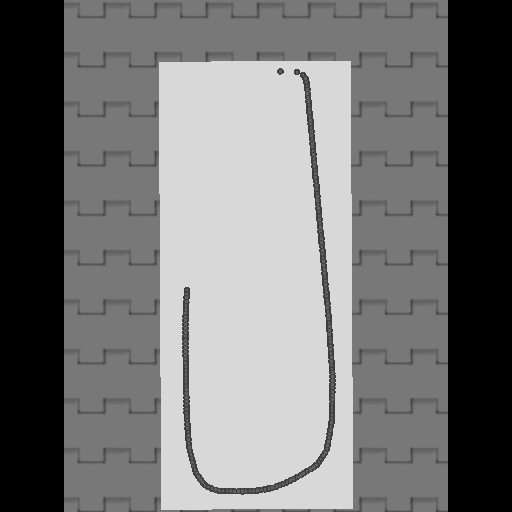Defect: (184, 77, 217, 289)
